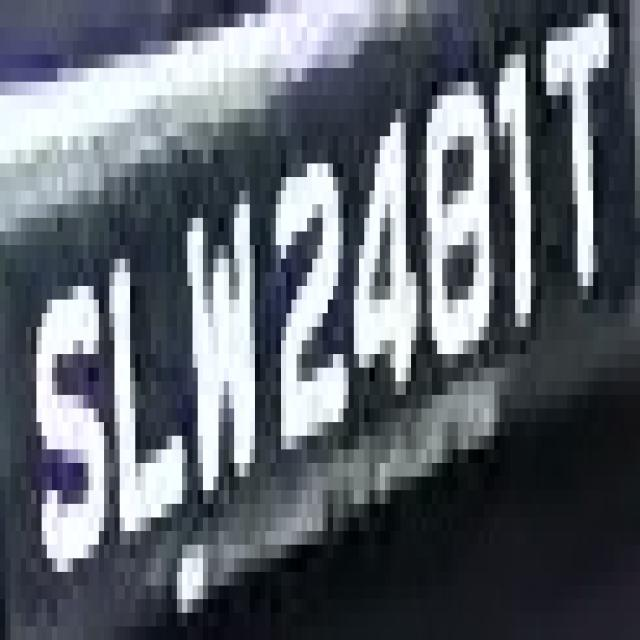1: (489, 54, 541, 382)
2: (250, 150, 354, 477)
4: (338, 68, 422, 381)
8: (416, 54, 505, 436)
L: (109, 218, 193, 558)
S: (10, 231, 110, 572)
T: (531, 0, 619, 313)
W: (177, 177, 265, 517)
